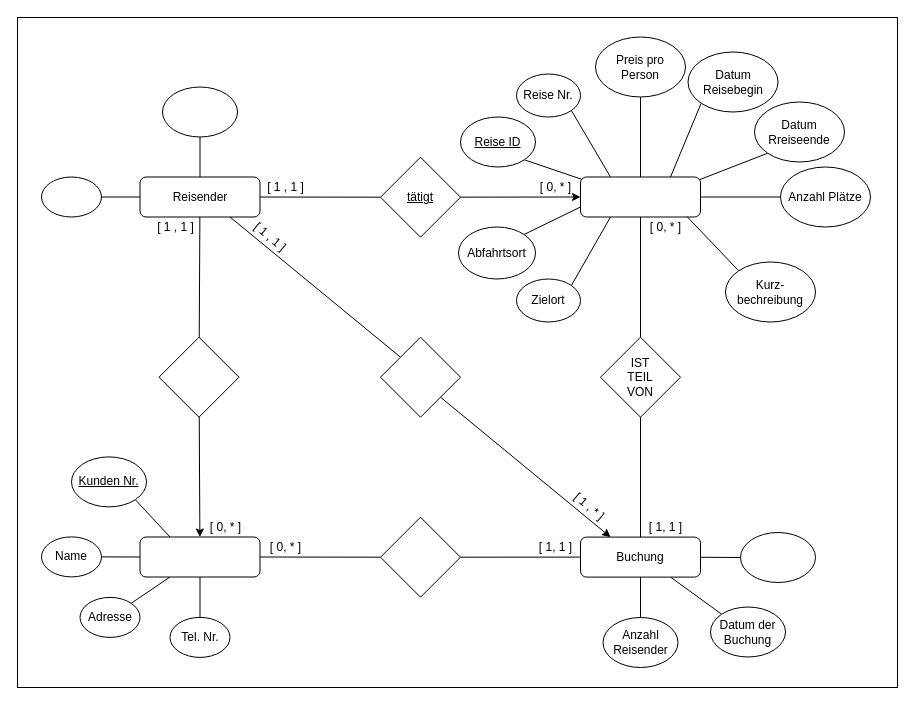
Image size: 915x705. Some labels were removed from this diagram. The box of each missing label's shape, as (x1, y1, x2, y2) in pixels:
Alter: (40, 176, 102, 217)
BUCHT: (380, 516, 460, 597)
Buchungs Nr.: (740, 532, 816, 582)
Geschlecht: (162, 86, 238, 137)
ist: (158, 336, 239, 417)
Kunde: (139, 536, 260, 577)
laut: (380, 336, 460, 417)
Reise: (580, 176, 700, 217)
